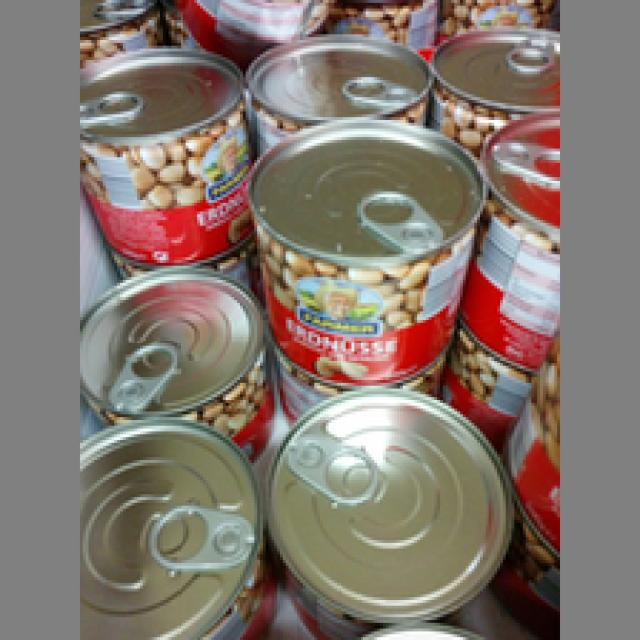groceries: (240, 114, 489, 383), (77, 46, 257, 266), (457, 108, 557, 363)
